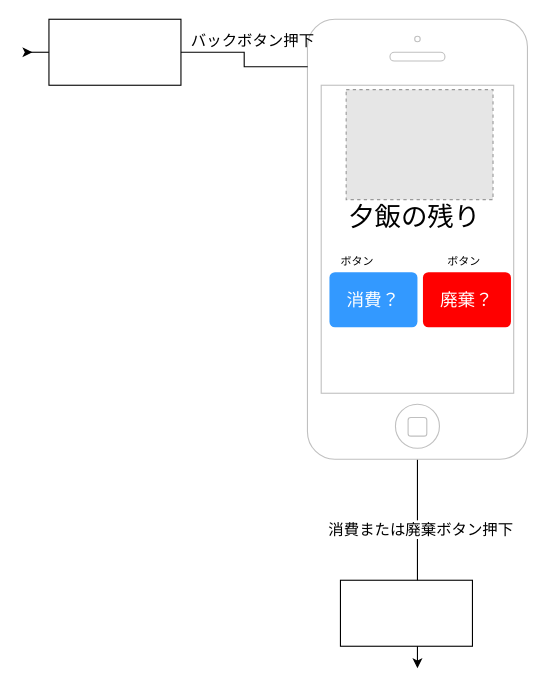
The diagram is 547 pixels wide and 696 high, and some of its shapes have lost their labels. Grey dashed boxes stand in for pictures. Here are the shapes that lost their labels. From the top down, the centre of each, then its label:
point (114, 51): 04.dangerlistへ遷移
point (405, 612): 04. dangerlistへ遷移
